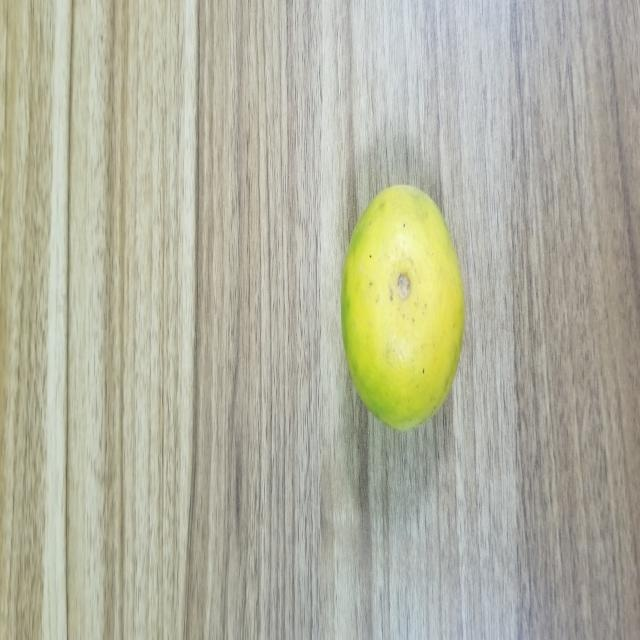agrume: (333, 163, 479, 431)
